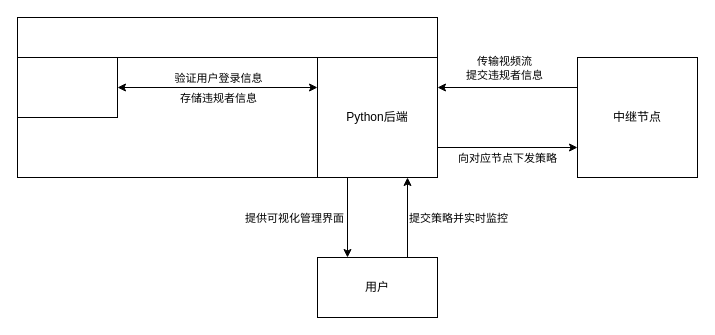
The diagram is 715 pixels wide and 335 high, and some of its shapes have lost their labels. Each missing label, with the box of its shape:
Mysql数据库: (16, 56, 118, 118)
中央管理节点: (16, 16, 438, 58)
